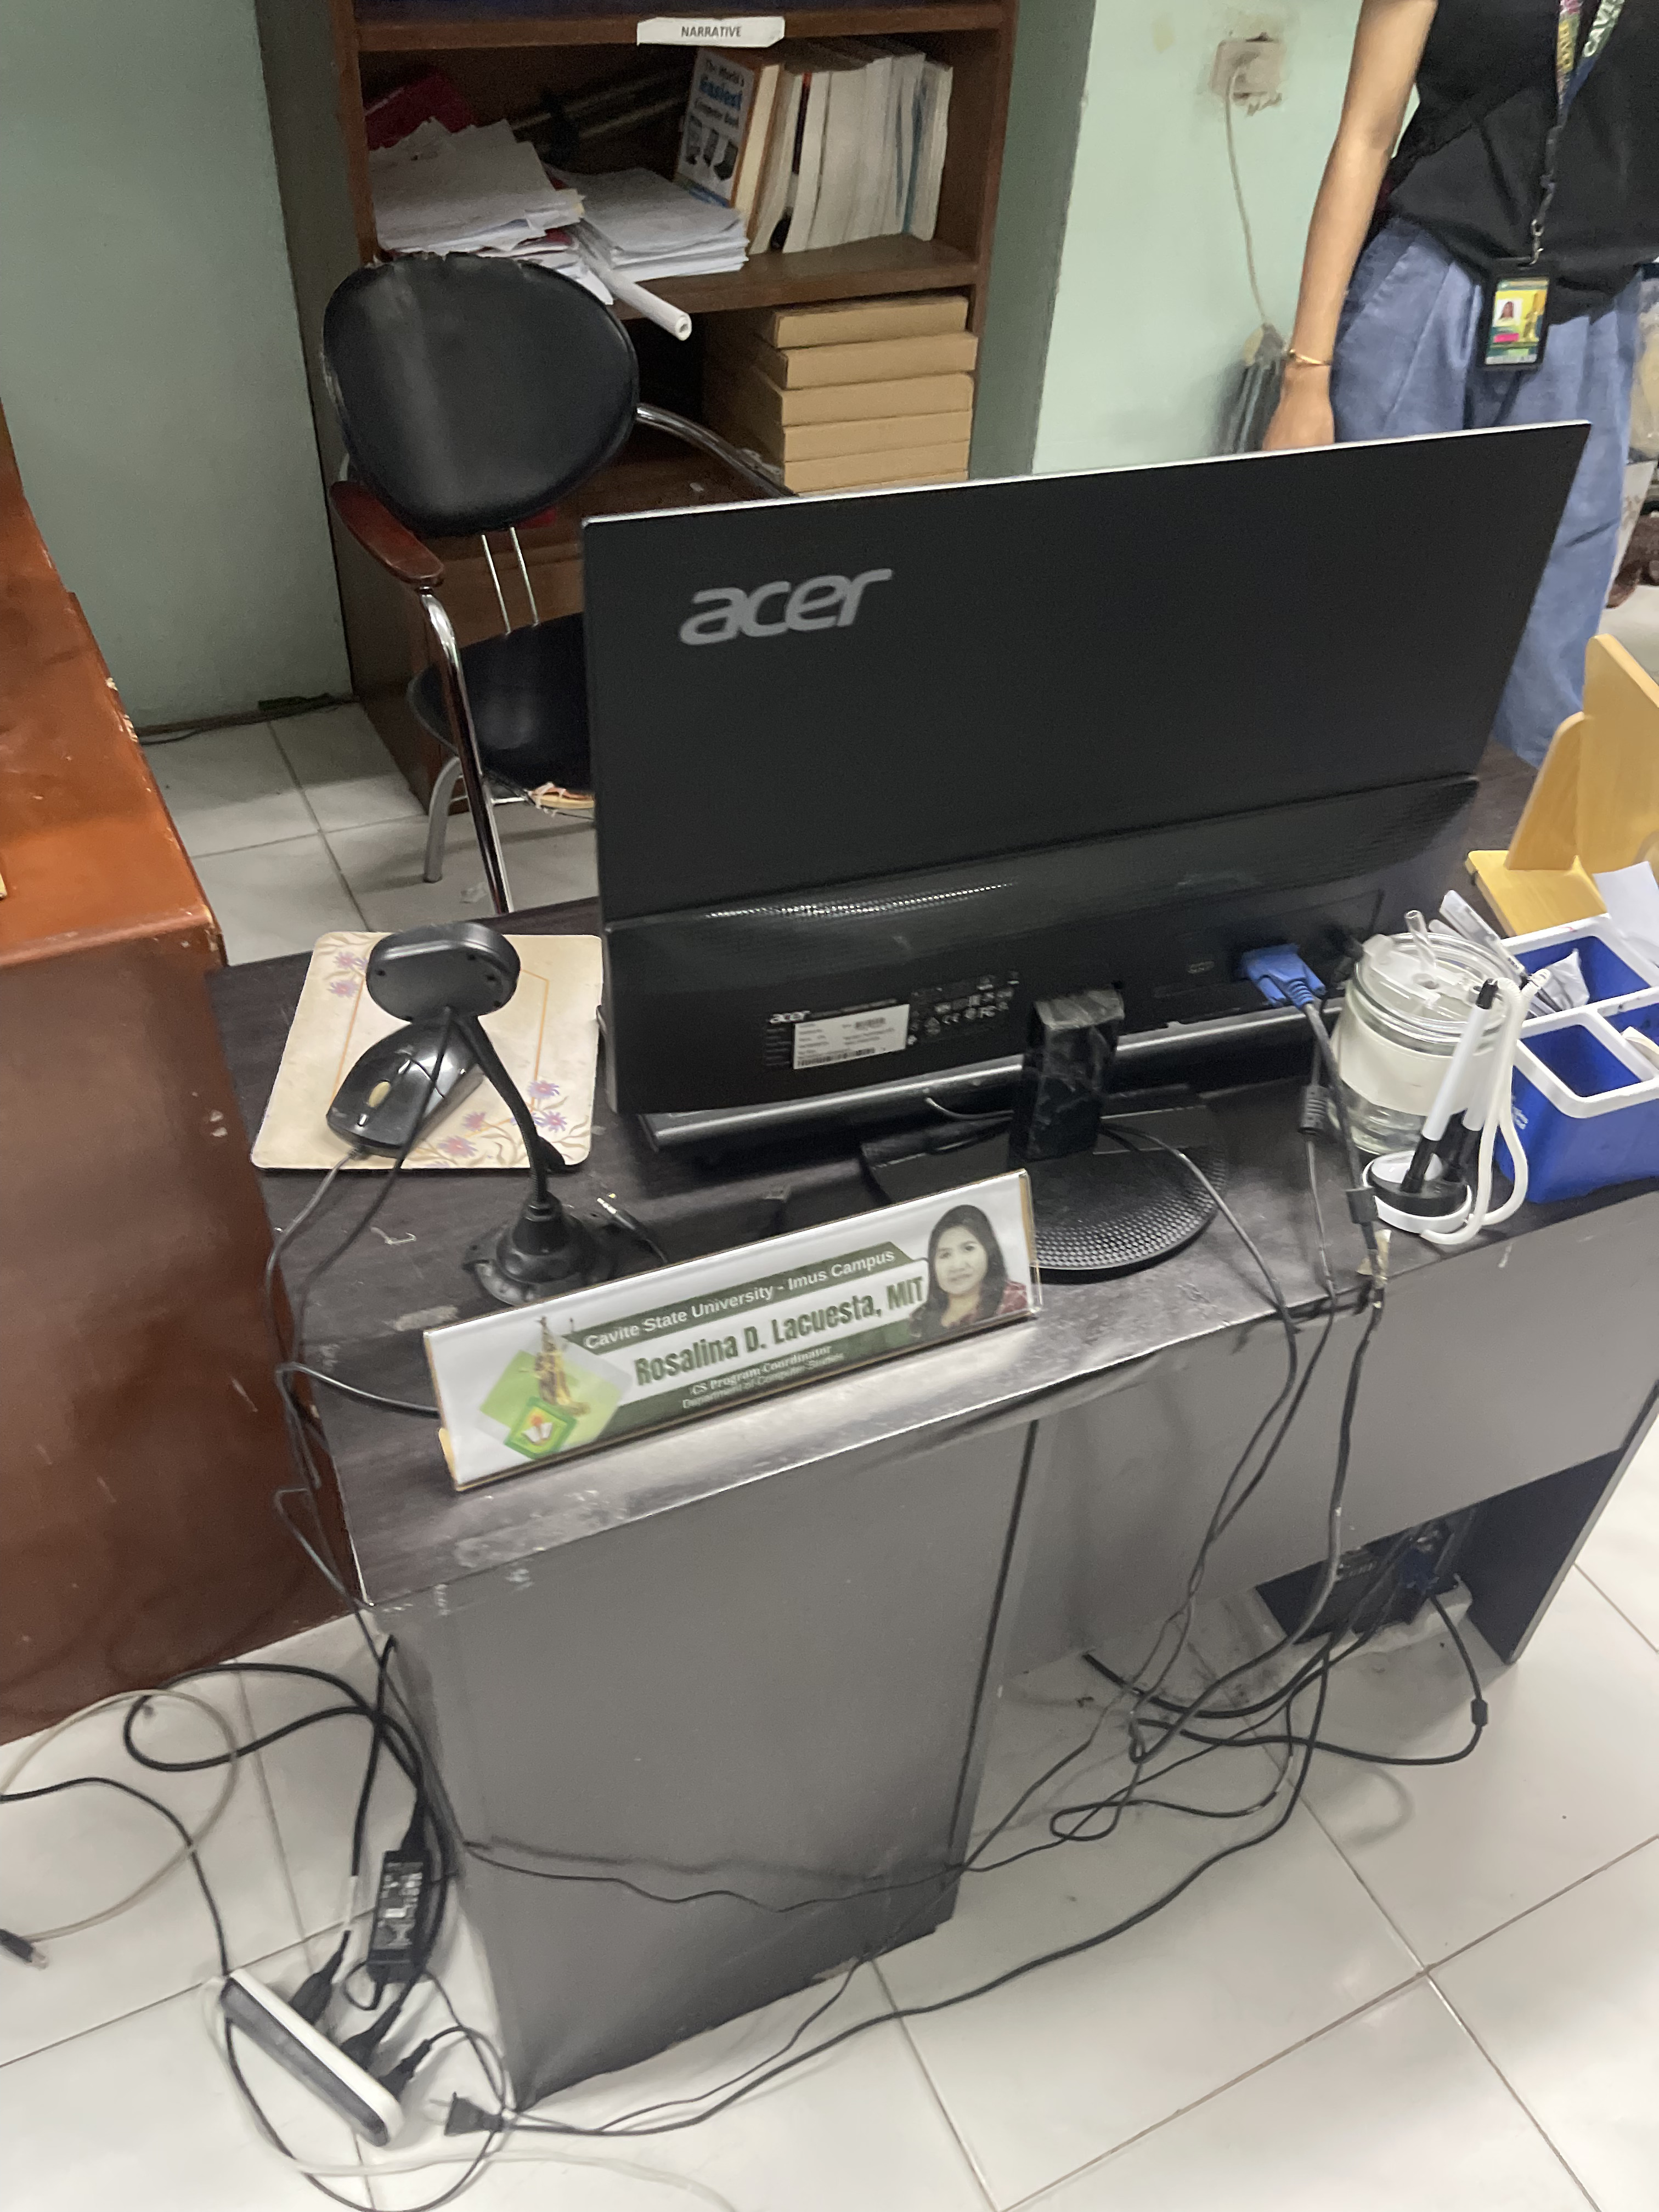table1: (159, 897, 1659, 2116)
